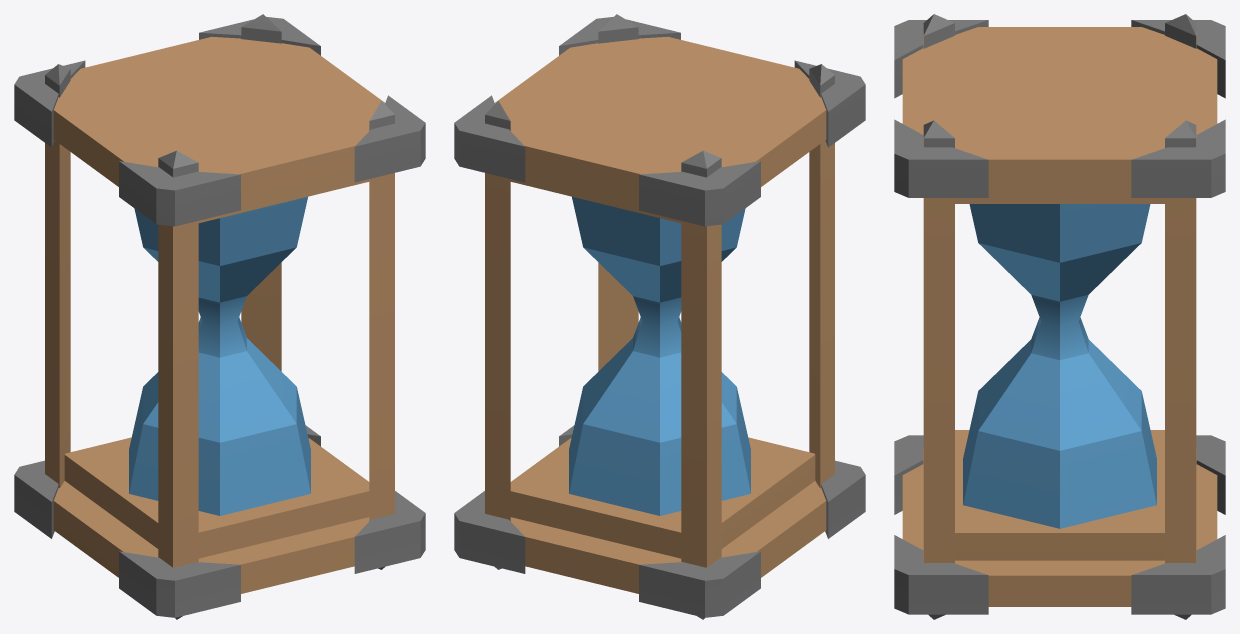
Rendered from Hourglass_A.fbx.
The picture shows the model from 3 angles, left to right: view 1: azimuth 30°, elevation 25°; view 2: azimuth 150°, elevation 25°; view 3: azimuth 270°, elevation 25°; orthographic projection. The views are drawn at different scales.
Parts seen in each view (by area): view 1: Hourglass_A; view 2: Hourglass_A; view 3: Hourglass_A.
Part boxes in pixels (box(x1,y1,x2,y2)): Hourglass_A: box(14, 14, 425, 619); Hourglass_A: box(454, 14, 865, 619); Hourglass_A: box(894, 14, 1225, 619).
Bounding box in the file's own units: 21.4 × 35.66 × 21.44.
